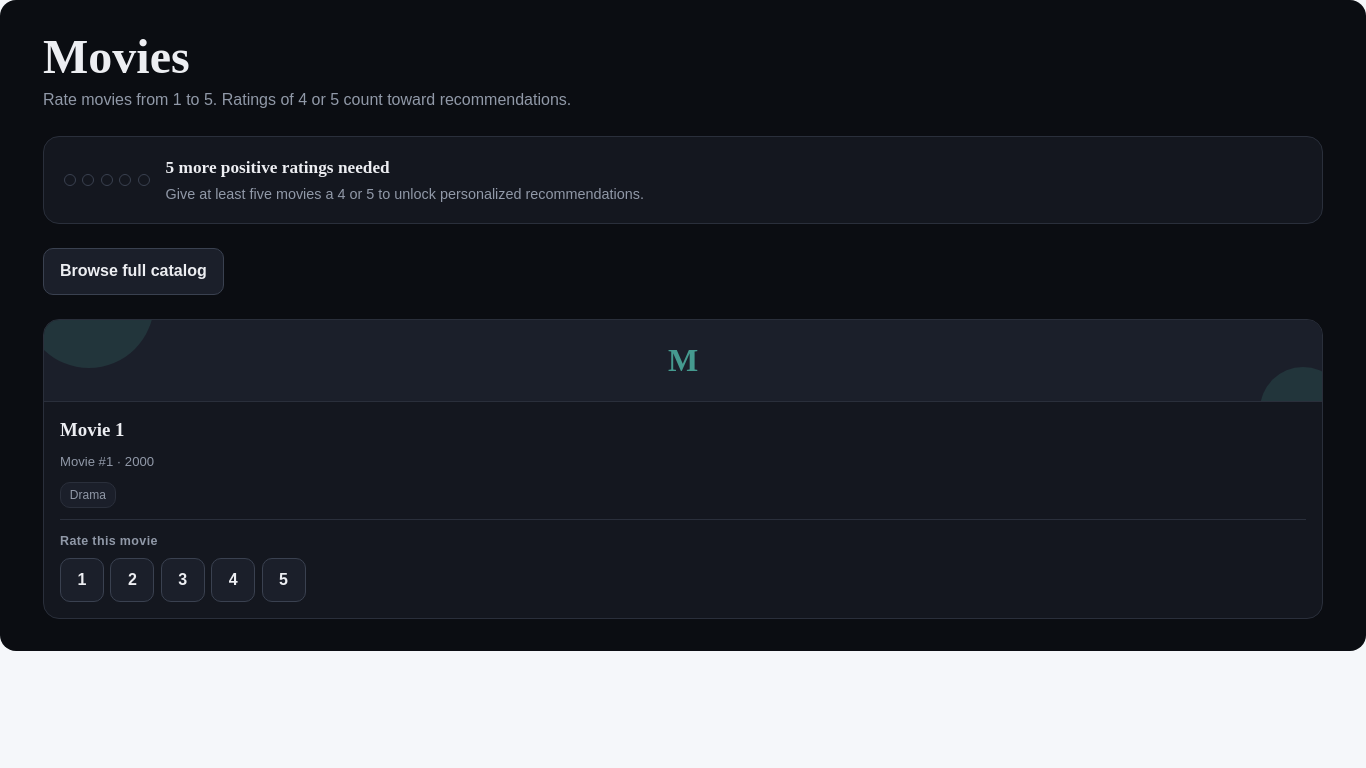
Test: uses backend positive_count after an optimistic rating update
Click the button named "Rate 4 out of 5" at {"x": 233, "y": 580}, box left=211, top=558, right=255, bottom=602
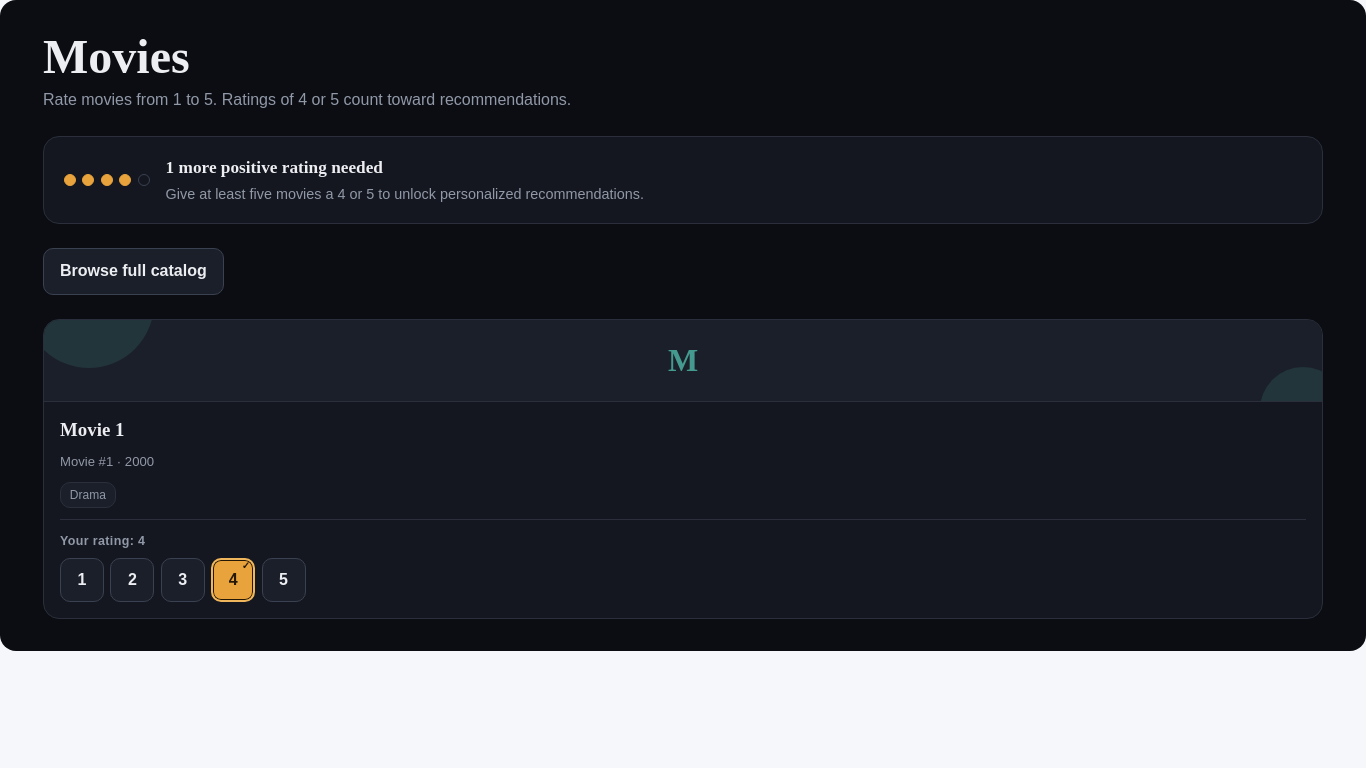
Check: the text "1 more positive rating needed" is shown, box left=166, top=158, right=383, bottom=177
